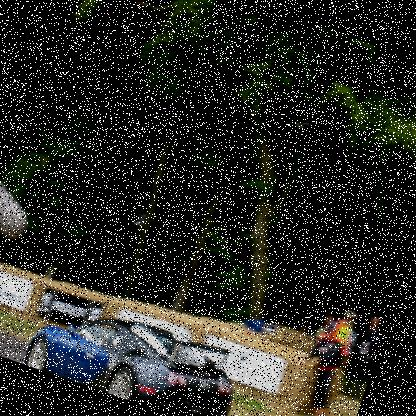Car: (22, 288, 249, 415)
